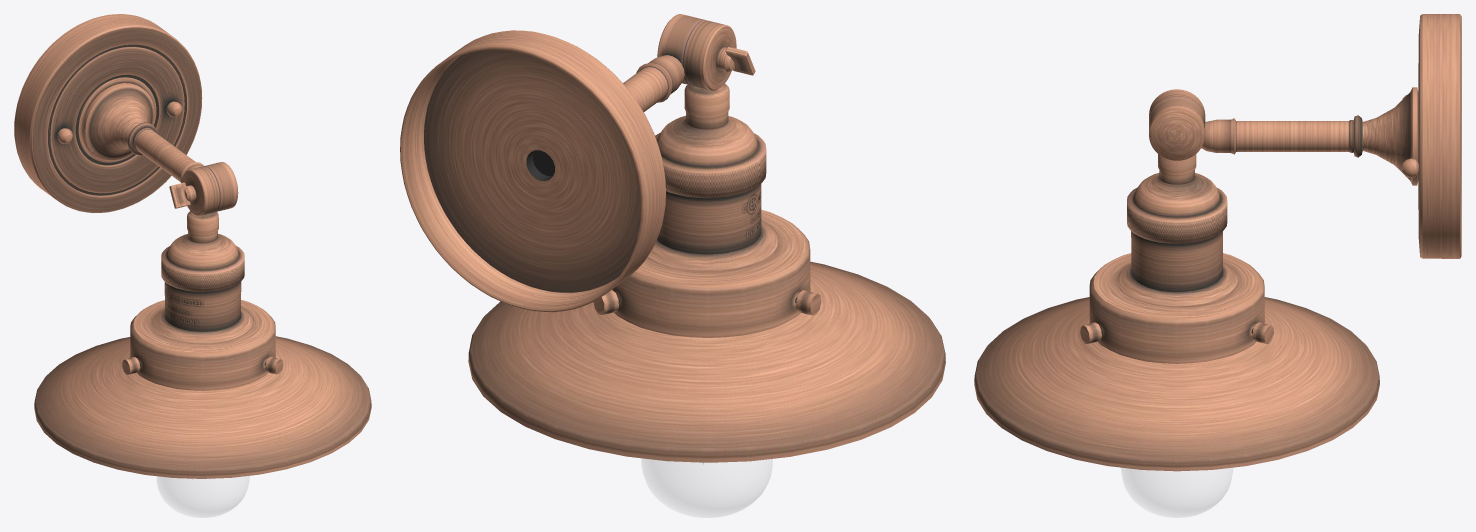
The model's file is AnisotropyBarnLamp.glb.
3 views of the same model, side by side, from view 1: azimuth 30°, elevation 25°; view 2: azimuth 150°, elevation 25°; view 3: azimuth 270°, elevation 25° (orthographic). The views are drawn at different scales.
Parts seen in each view (by area): view 1: Lamp Metal, Lamp Glass; view 2: Lamp Metal, Lamp Glass; view 3: Lamp Metal, Lamp Glass.
Part boxes in pixels (<box>): Lamp Metal: <box>14,14,371,479</box>; Lamp Glass: <box>157,476,249,517</box>; Lamp Metal: <box>400,14,945,464</box>; Lamp Glass: <box>641,458,772,517</box>; Lamp Metal: <box>974,14,1461,471</box>; Lamp Glass: <box>1121,468,1232,517</box>.
Bounding box in the file's own units: 0.1908 × 0.2552 × 0.2265.
Materials: 3 (1 with a texture image).
